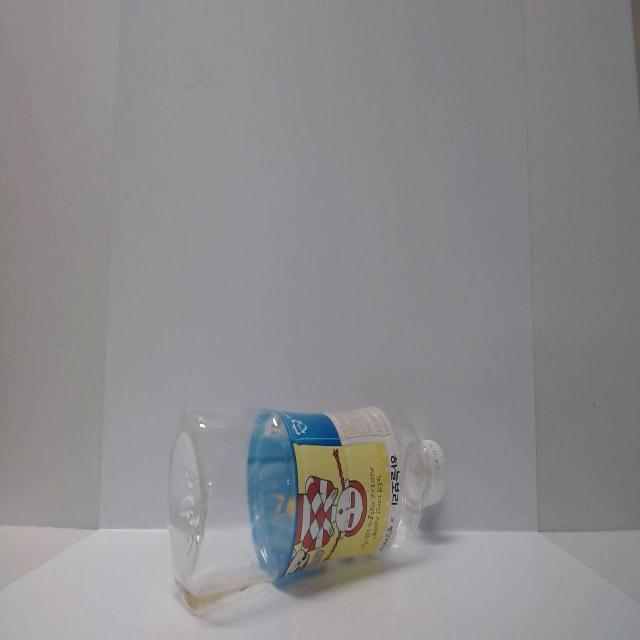bottle: (165, 370, 448, 620)
